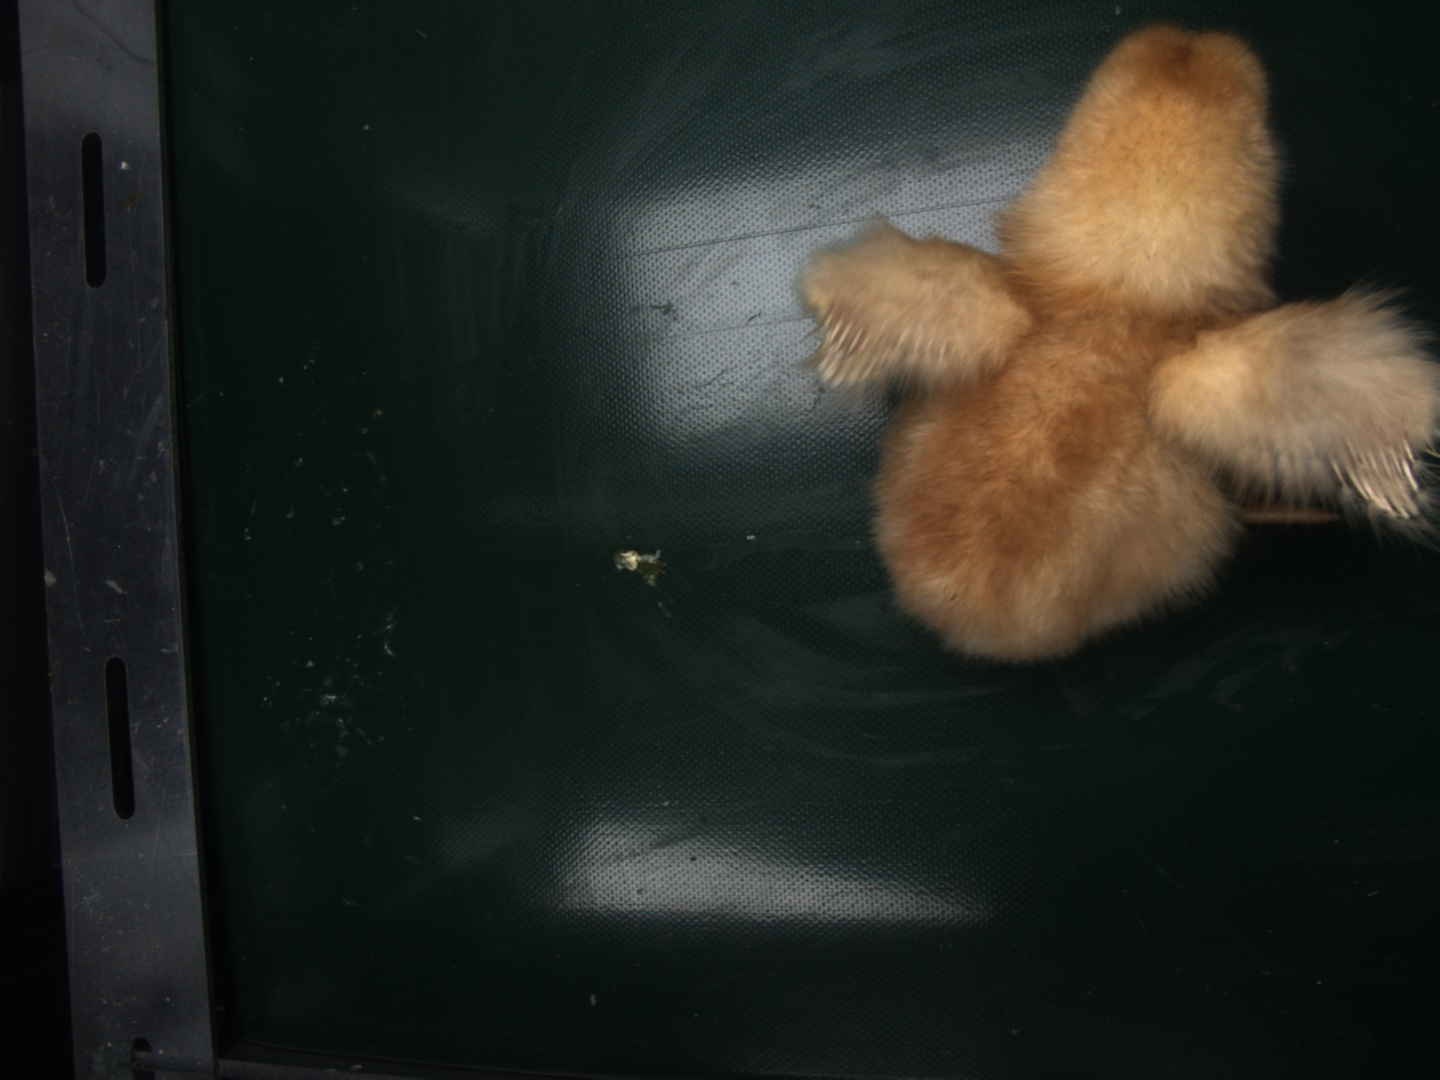female: (1336, 438, 1420, 518), (813, 303, 876, 386)
